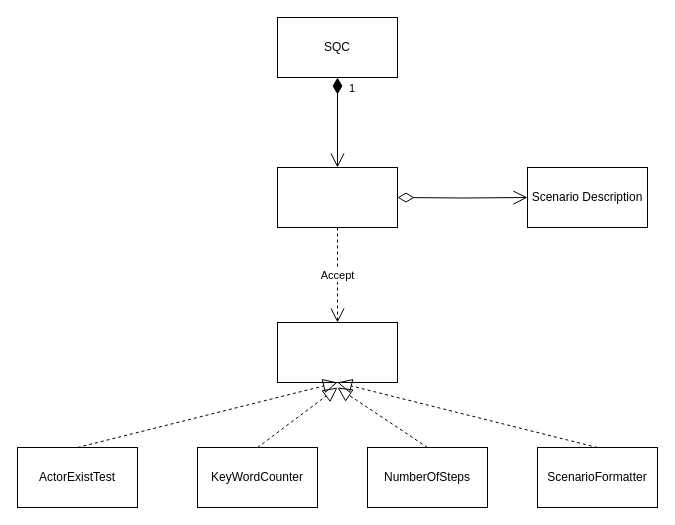
The diagram is 675 pixels wide and 525 high, and some of its shapes have lost their labels. The shapes that lost their labels are listed below. From the top down, each one's centre as x and y in pixels, then its label:
At [337,197]: "ScenarioBody".
At [337,352]: "Visitor".
